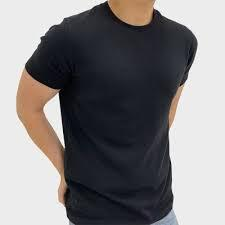Tshirt: (23, 0, 194, 225)
